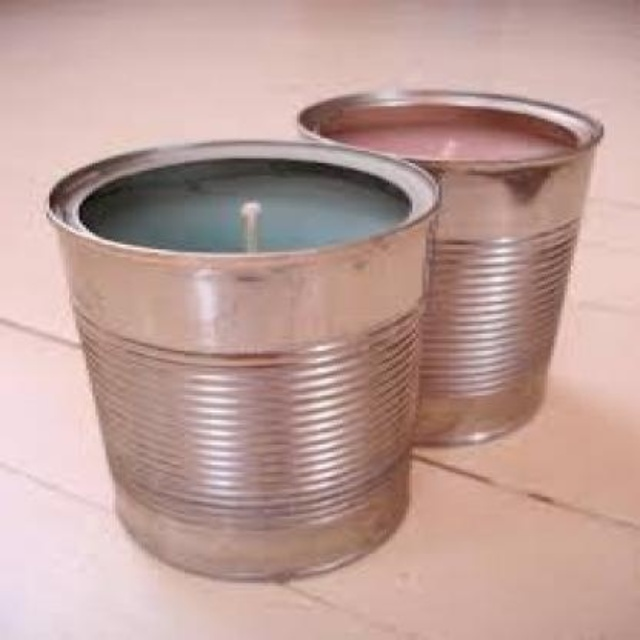trash: (49, 142, 437, 577), (298, 91, 602, 443)
